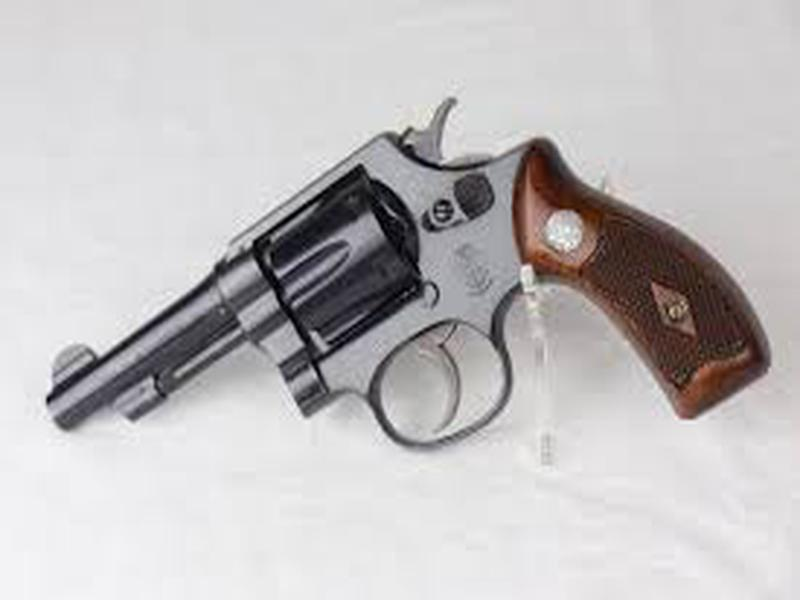gun: (49, 95, 772, 452)
